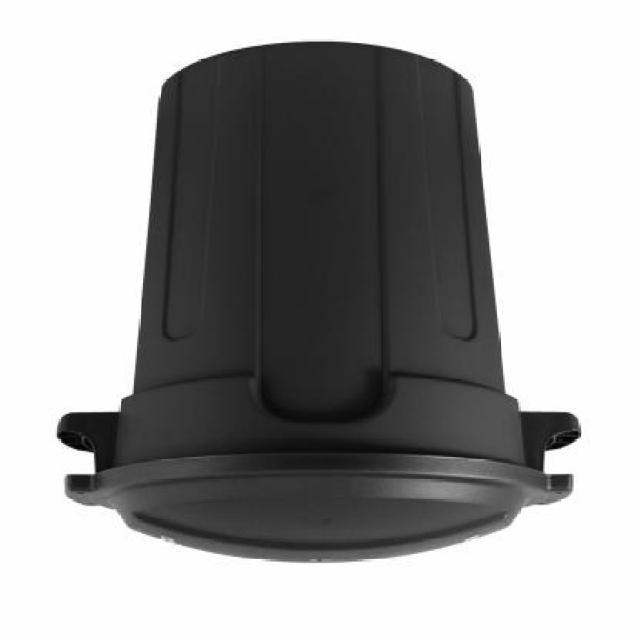garbage container: (49, 30, 605, 570)
